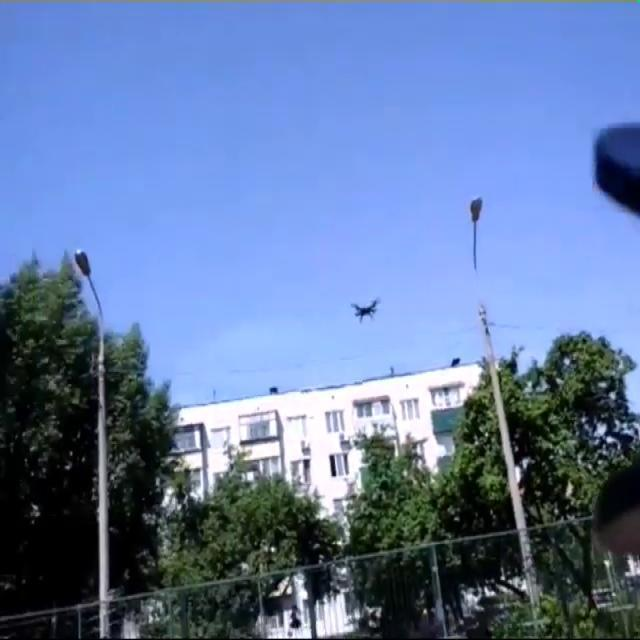Drons: (343, 293, 385, 325)
